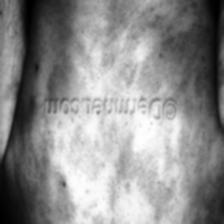Potentially Malignant Skin Tumors: (125, 150, 167, 190), (75, 138, 109, 169), (137, 70, 158, 86)
